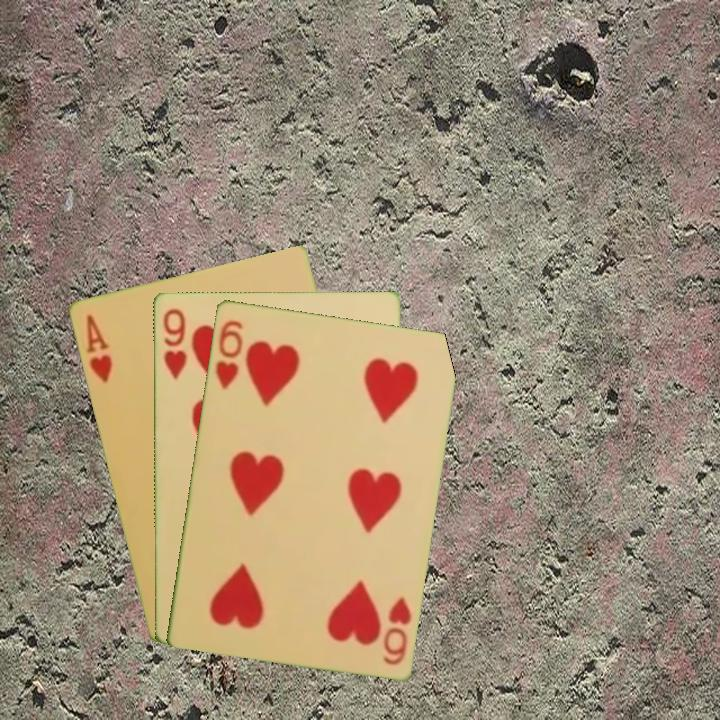6h: (211, 316, 246, 392), (379, 592, 414, 667)
9h: (159, 305, 189, 382)
Ah: (82, 310, 115, 385)
